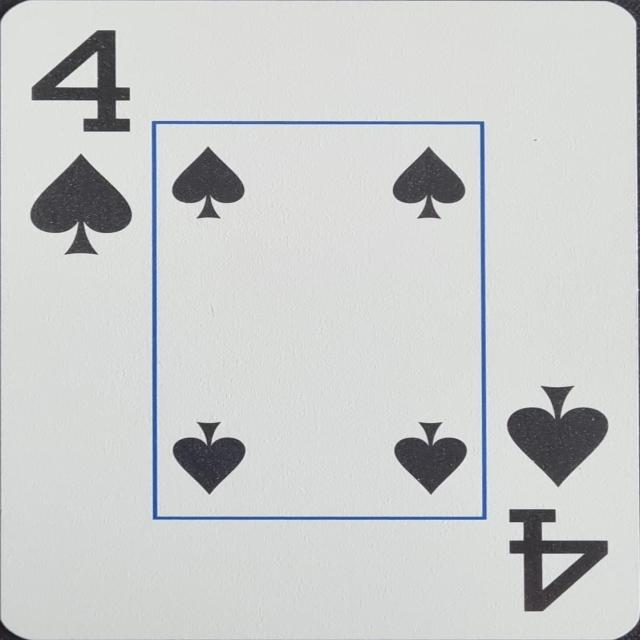4s: (498, 380, 612, 621), (24, 26, 141, 260)
